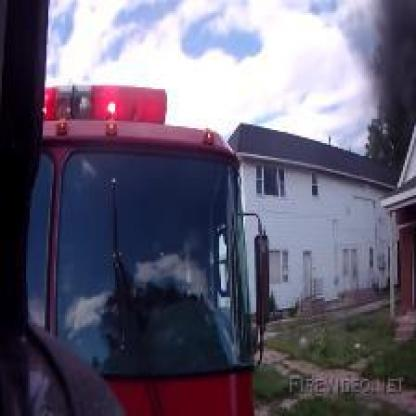other: (51, 70, 170, 133)
